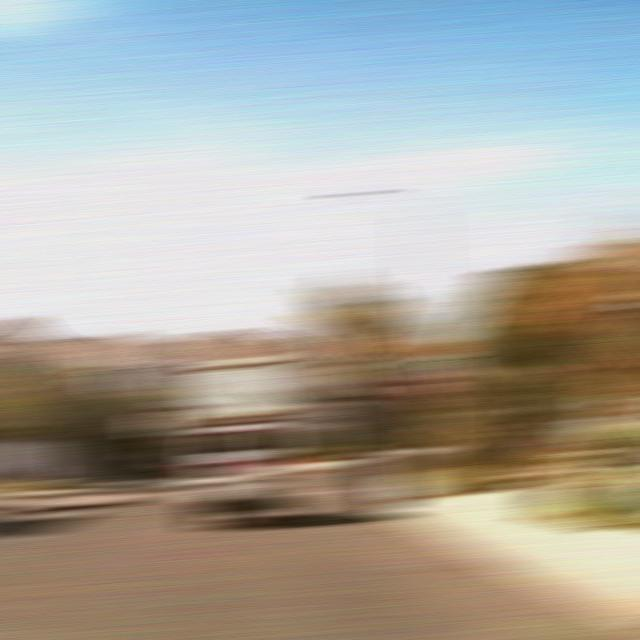stop_sign: (404, 374, 450, 405)
